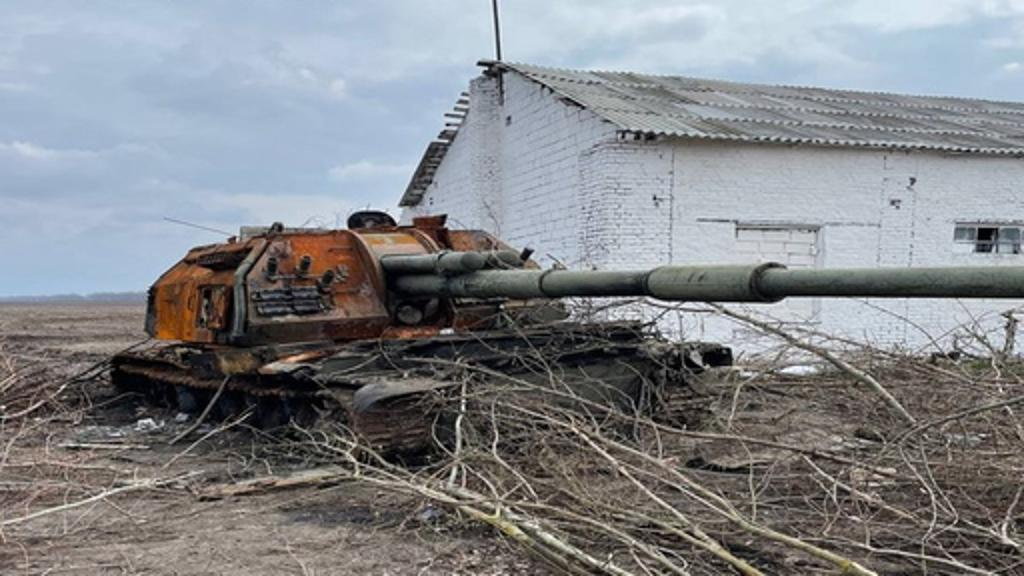ART: (106, 212, 1014, 470)
